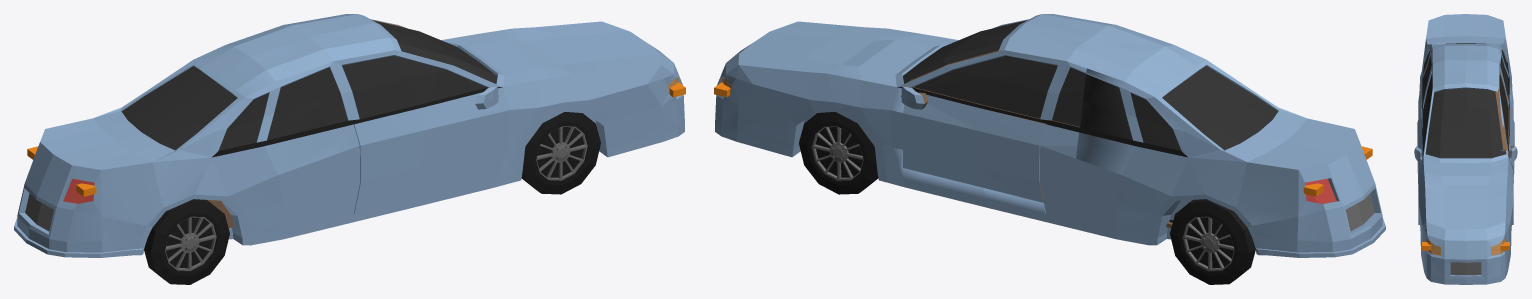
File: car_1.glb
The picture shows the model from 3 angles, left to right: view 1: azimuth 30°, elevation 25°; view 2: azimuth 150°, elevation 25°; view 3: azimuth 270°, elevation 25°; orthographic projection. The views are drawn at different scales.
Visible parts, largest first — view 1: NormalCar1_Cube.012, Wheels, Wheel.001, IndicatorRight; view 2: NormalCar1_Cube.012, DriverDoor, Wheels, Wheel, IndicatorLeft; view 3: NormalCar1_Cube.012, DriverDoor, IndicatorLeft, IndicatorRight.
Boxes of the visible parts, x1=… form: NormalCar1_Cube.012: x1=14, y1=14, x2=684, y2=257; Wheels: x1=144, y1=199, x2=229, y2=284; Wheel.001: x1=521, y1=112, x2=600, y2=194; IndicatorRight: x1=76, y1=82, x2=685, y2=196; NormalCar1_Cube.012: x1=715, y1=14, x2=1385, y2=257; DriverDoor: x1=903, y1=50, x2=1086, y2=210; Wheels: x1=1170, y1=199, x2=1255, y2=284; Wheel: x1=799, y1=111, x2=878, y2=194; IndicatorLeft: x1=714, y1=82, x2=1323, y2=196; NormalCar1_Cube.012: x1=1414, y1=14, x2=1516, y2=284; DriverDoor: x1=1495, y1=60, x2=1517, y2=176; IndicatorLeft: x1=1500, y1=242, x2=1509, y2=250; IndicatorRight: x1=1422, y1=242, x2=1431, y2=250.
Bounding box in the file's own units: 3.53 × 0.9835 × 0.74.
